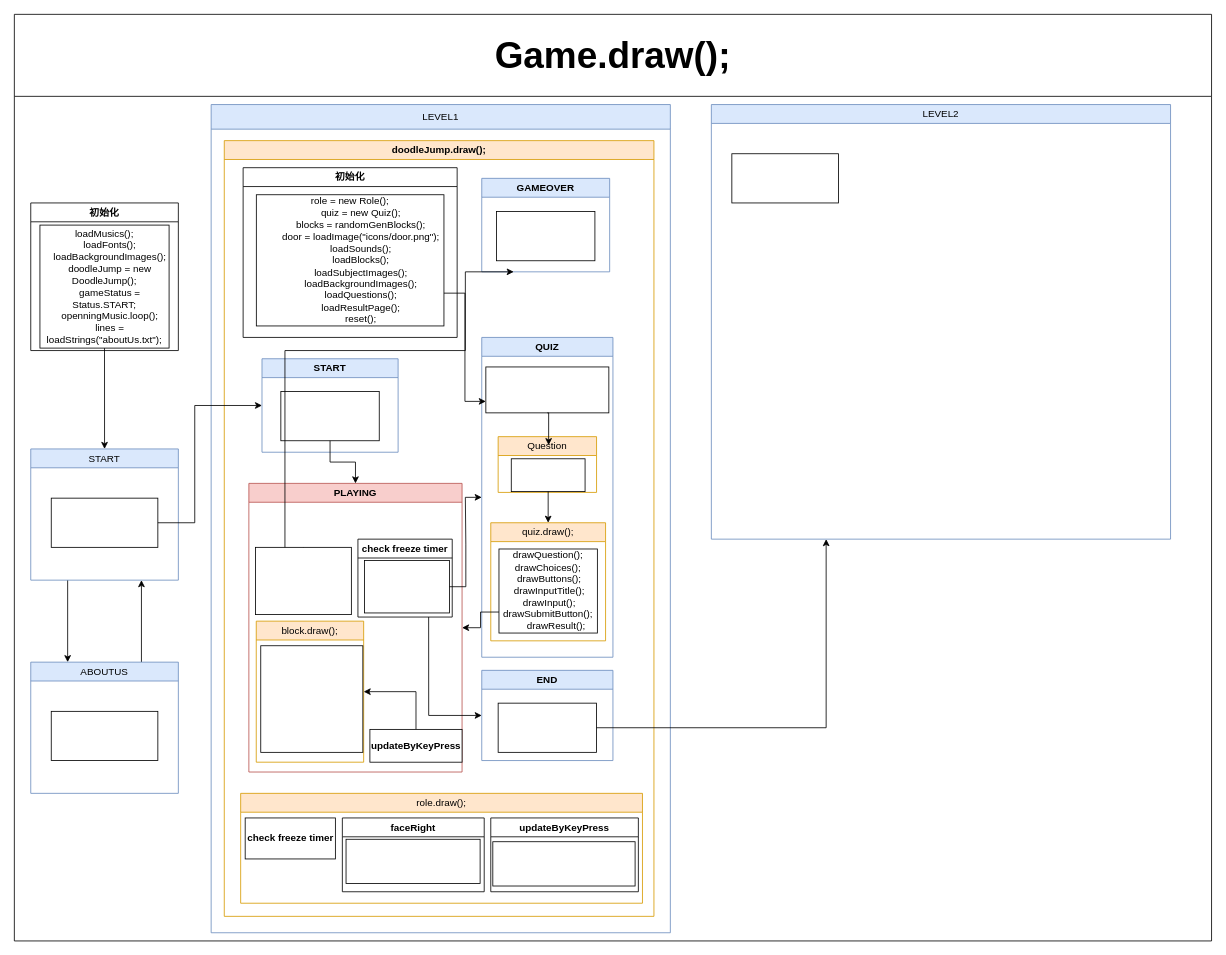
This 1226x955 diagram has some shape labels left out. Here are the shapes that lost their labels. From the top down, the centre of each, then its label:
point 545,236: drawGameOver();
point 547,389: updateAnserByKeyPress(); handleSubmit(); Question(JSONObject obj)
point 329,416: drawInfoPage();
point 547,475: getJSONArray
point 104,522: drawStartPage();
point 303,581: check gameover check canvaOffset draw the door drawBottomSection();
point 406,586: stayTopCheck(); hitIconCheck(); move the canva
point 311,698: getRandomIconType() getRandomIconX() drawIcon(int y)
point 104,736: drawAboutUS();
point 547,727: drawResultPage();
point 412,861: game.doodleJump.fireTimer
point 563,863: game.doodleJump.freezeTimer
